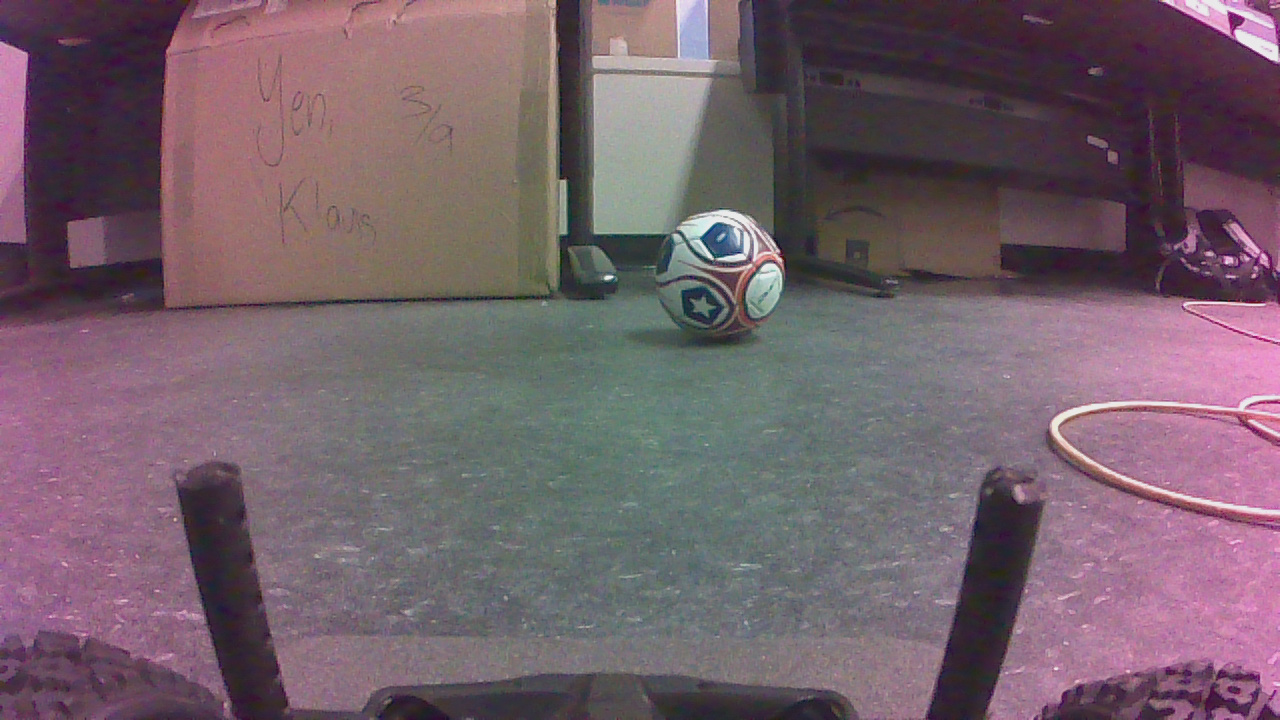ball: (652, 216, 791, 345)
